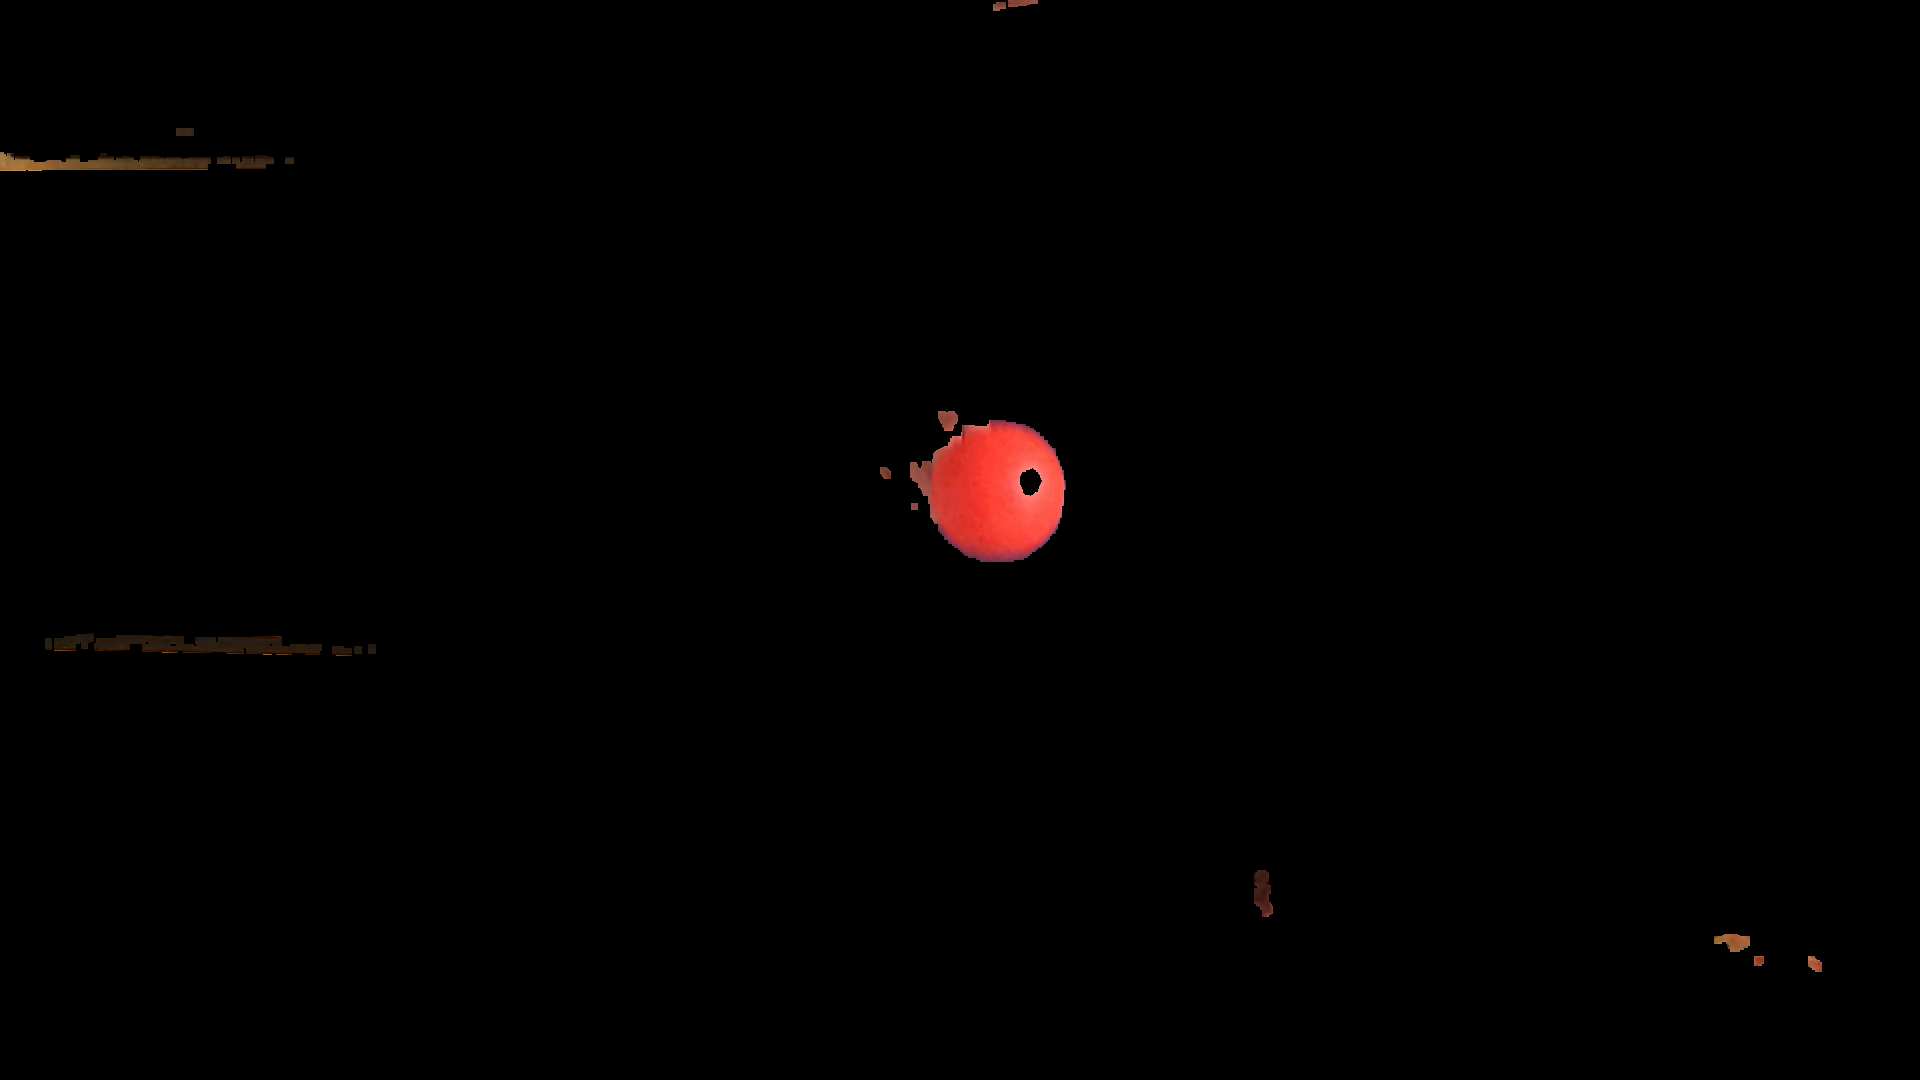Ball: (938, 425, 1067, 559)
